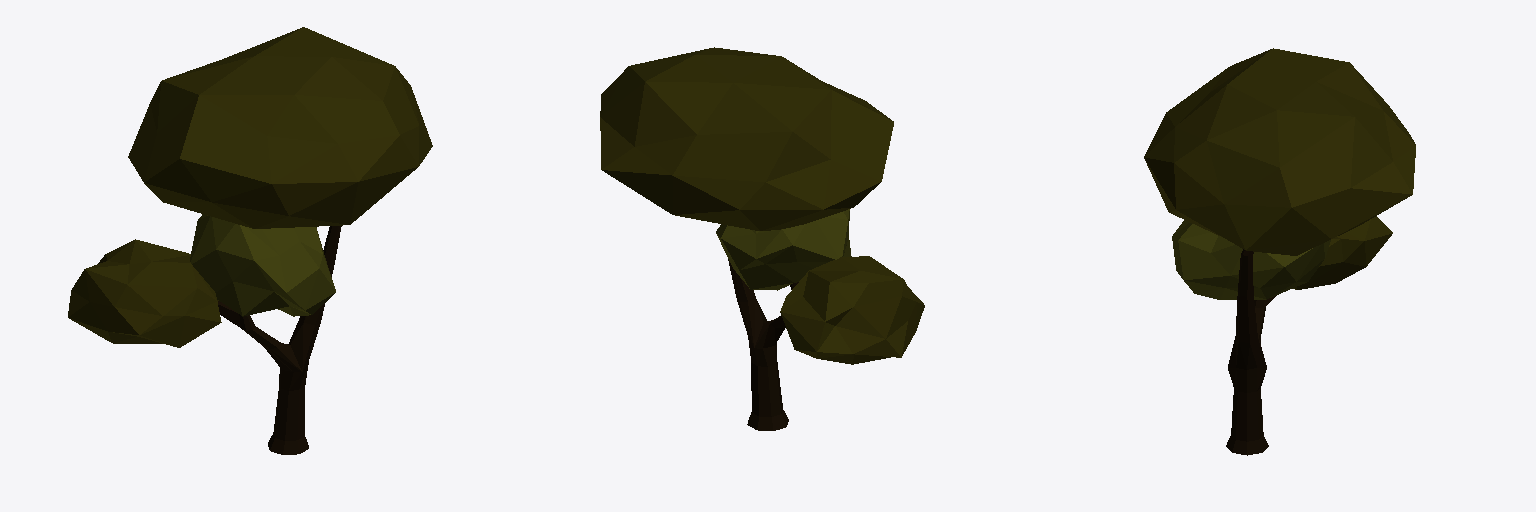
The model's file is tree3.obj.
The picture shows the model from 3 angles: view 1: azimuth 30°, elevation 25°; view 2: azimuth 150°, elevation 25°; view 3: azimuth 270°, elevation 25°; orthographic projection.
Parts seen in each view (by area): view 1: Icosphere.012_Icosphere.005, Cylinder.018_Cylinder.024; view 2: Icosphere.012_Icosphere.005, Cylinder.018_Cylinder.024; view 3: Icosphere.012_Icosphere.005, Cylinder.018_Cylinder.024.
Boxes of the visible parts, x1,y1,x2,y2 form: Icosphere.012_Icosphere.005: [68, 27, 432, 347]; Cylinder.018_Cylinder.024: [218, 226, 341, 454]; Icosphere.012_Icosphere.005: [600, 47, 924, 364]; Cylinder.018_Cylinder.024: [728, 259, 798, 430]; Icosphere.012_Icosphere.005: [1144, 48, 1415, 299]; Cylinder.018_Cylinder.024: [1226, 249, 1276, 455].
Size of the model in its own units: 5.27 by 5.71 by 3.86.